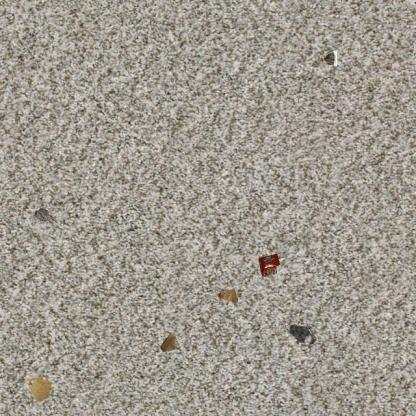dirty: (257, 252, 282, 278), (30, 206, 56, 226), (158, 332, 178, 354), (318, 50, 339, 68), (217, 288, 238, 304)
liquid: (26, 373, 52, 402), (288, 323, 318, 346)
